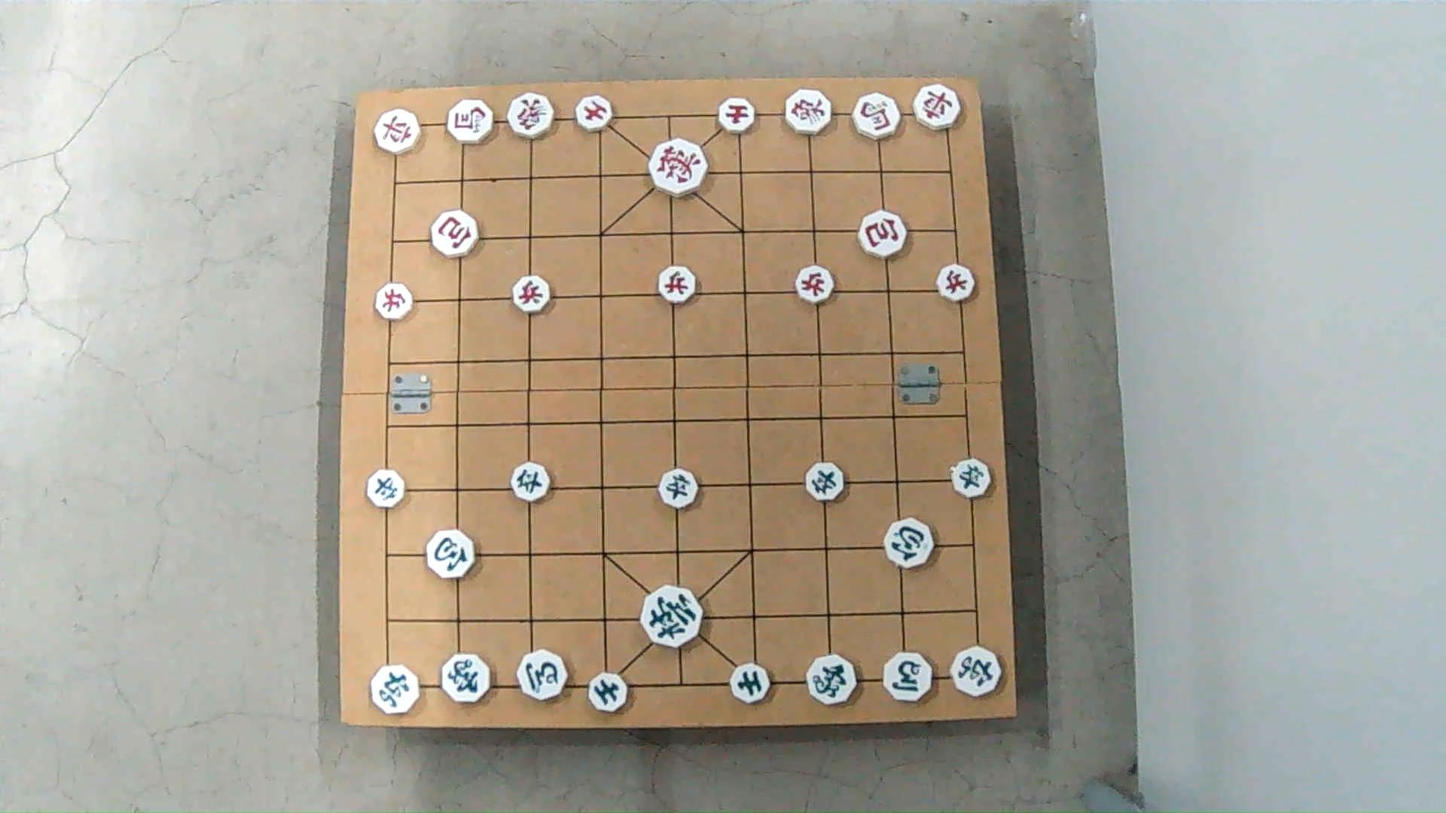cha_green: (951, 645, 1002, 699), (372, 665, 422, 713)
cha_red: (371, 109, 420, 154), (914, 84, 959, 132)
jol_green: (950, 461, 992, 498), (806, 463, 847, 500), (511, 464, 551, 501), (659, 470, 699, 507), (367, 472, 407, 508)
jol_red: (795, 266, 837, 302), (656, 266, 696, 302), (936, 264, 976, 300), (511, 276, 551, 312), (376, 285, 414, 319)
ma_green: (514, 650, 570, 700), (882, 653, 933, 702)
ma_red: (853, 93, 901, 136), (448, 100, 495, 140)
po_green: (883, 520, 934, 567), (426, 531, 475, 577)
po_red: (859, 211, 908, 256), (432, 212, 480, 255)
sa_green: (585, 672, 627, 714), (729, 663, 770, 702)
sa_red: (573, 97, 612, 132), (717, 99, 756, 132)
sang_green: (804, 654, 859, 706), (441, 653, 492, 704)
sang_red: (508, 92, 556, 142), (784, 88, 833, 131)
wang_green: (641, 589, 703, 648)
wang_red: (648, 140, 707, 193)
